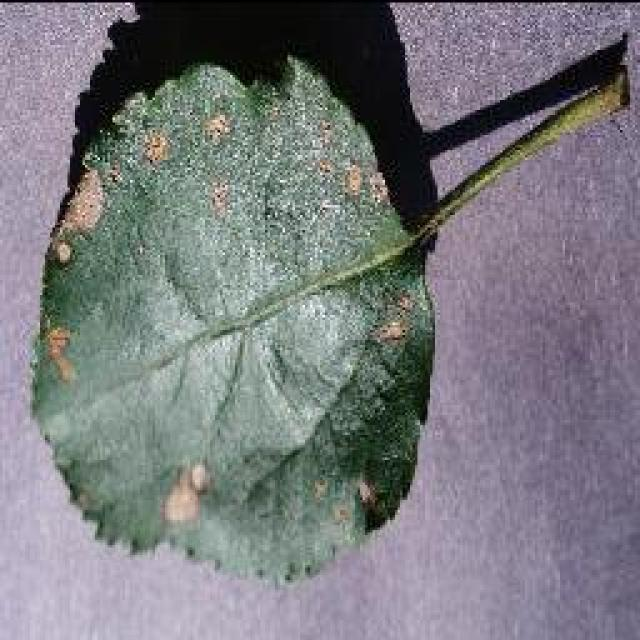Apple___Black_rot: (24, 45, 438, 589)
